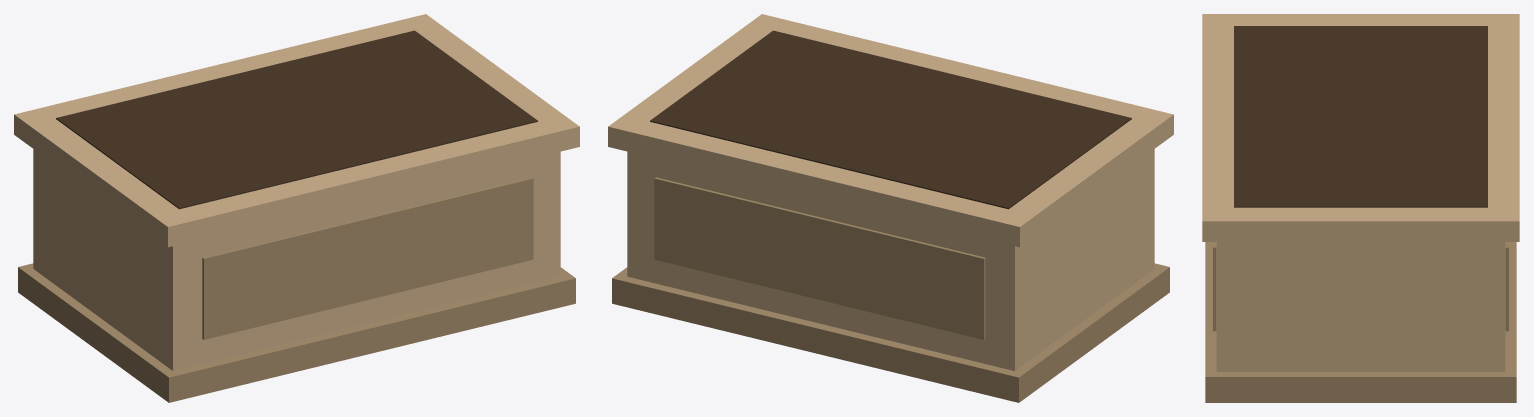
The model's file is planter_stone.glb.
3 views of the same model, side by side, from view 1: azimuth 30°, elevation 25°; view 2: azimuth 150°, elevation 25°; view 3: azimuth 270°, elevation 25° (orthographic). The views are drawn at different scales.
Parts seen in each view (by area): view 1: planter_stone; view 2: planter_stone; view 3: planter_stone.
Boxes of the visible parts, x1,y1,x2,y2 form: planter_stone: (14,14,579,402); planter_stone: (608,14,1173,402); planter_stone: (1202,14,1519,402).
Bounding box in the file's own units: 1.7 × 0.705 × 1.1.
